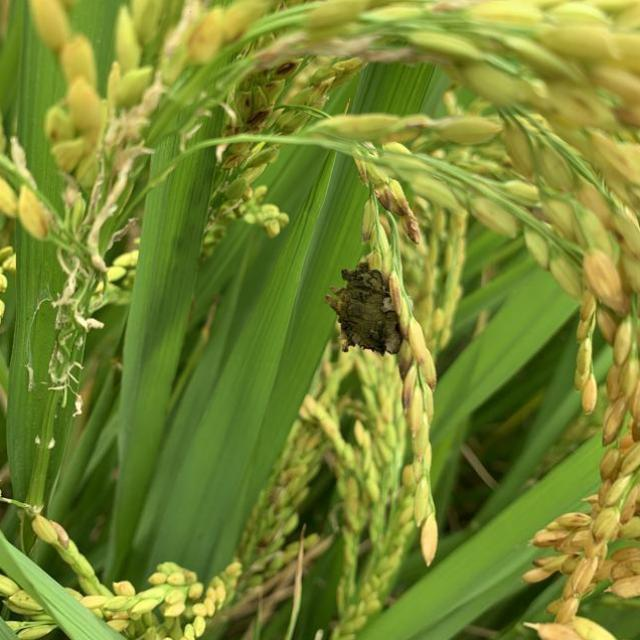Leaf_Scald: (325, 264, 409, 356)
